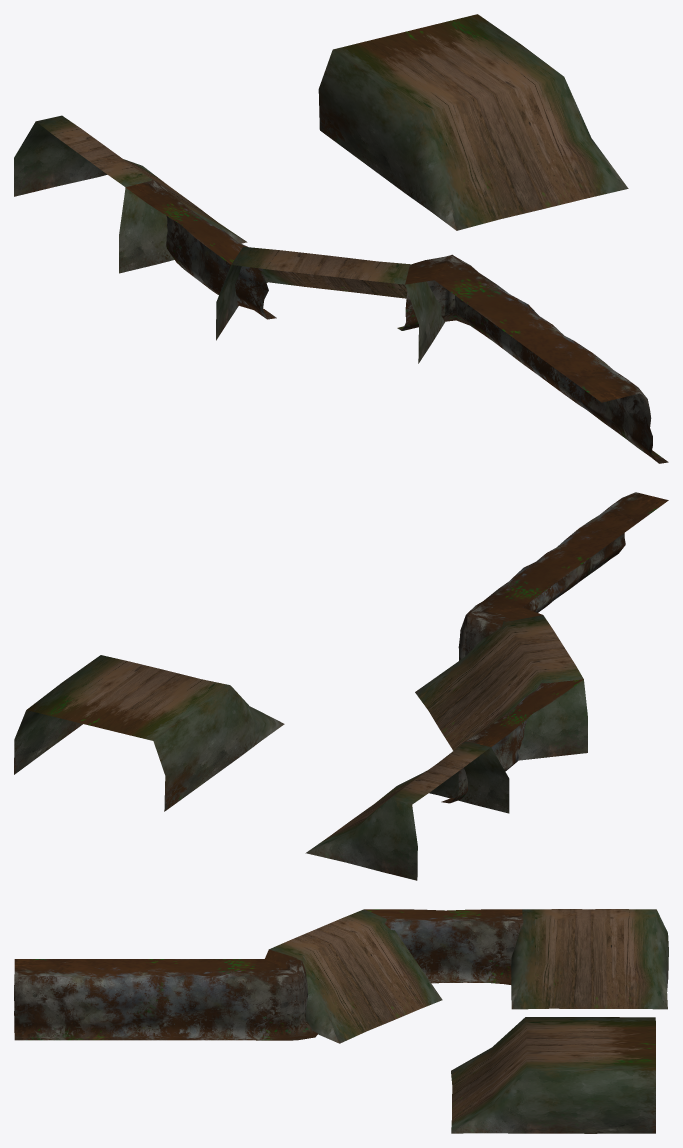
Rendered from Stage_Block_2_4.fbx.
The picture shows the model from 3 angles, top to bottom: view 1: azimuth 30°, elevation 25°; view 2: azimuth 150°, elevation 25°; view 3: azimuth 270°, elevation 25°; orthographic projection. The views are drawn at different scales.
Visible parts, largest first — view 1: Stage_Block_2_4; view 2: Stage_Block_2_4; view 3: Stage_Block_2_4.
Part boxes in pixels (x1=…): Stage_Block_2_4: x1=14, y1=14, x2=668, y2=463; Stage_Block_2_4: x1=14, y1=492, x2=668, y2=880; Stage_Block_2_4: x1=14, y1=909, x2=668, y2=1133.
Size of the model in its own units: 3165 by 500 by 5106.
2 materials, 2 textured.
